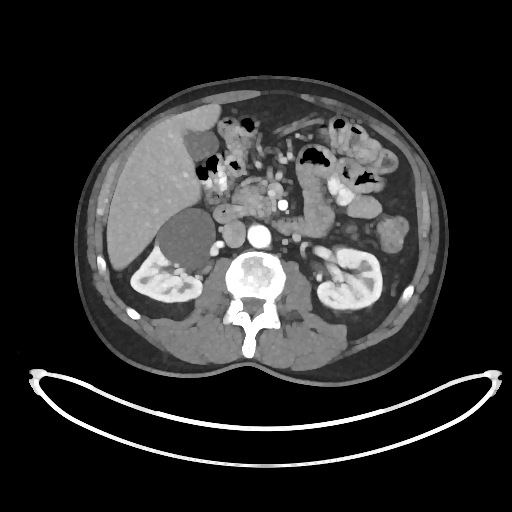Lesion: (155, 208, 218, 266)
